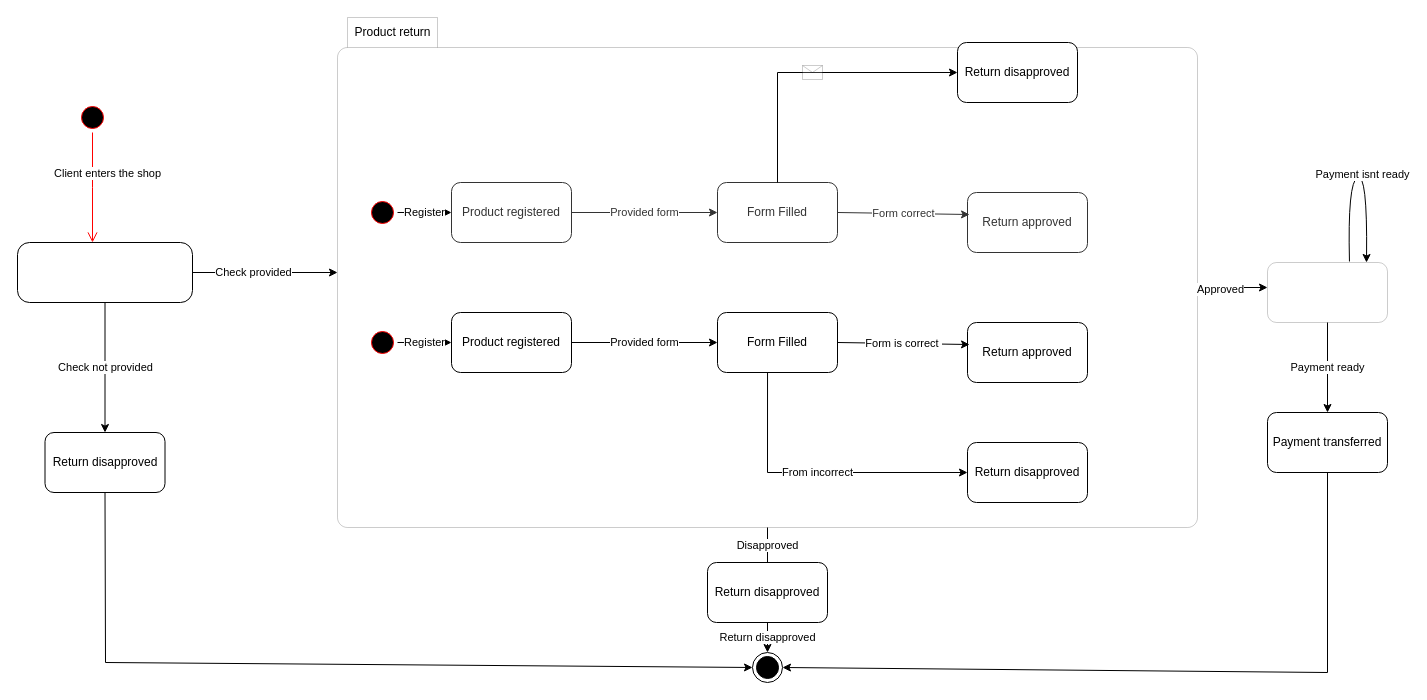
This 1427x700 diagram has some shape labels left out. The shapes that lost their labels are listed below. From the top down, each one's centre as x and y in pixels, then its label:
At (x=104, y=272): "Unproccessed product return".
At (x=1327, y=292): "Waiting for payement approval".
